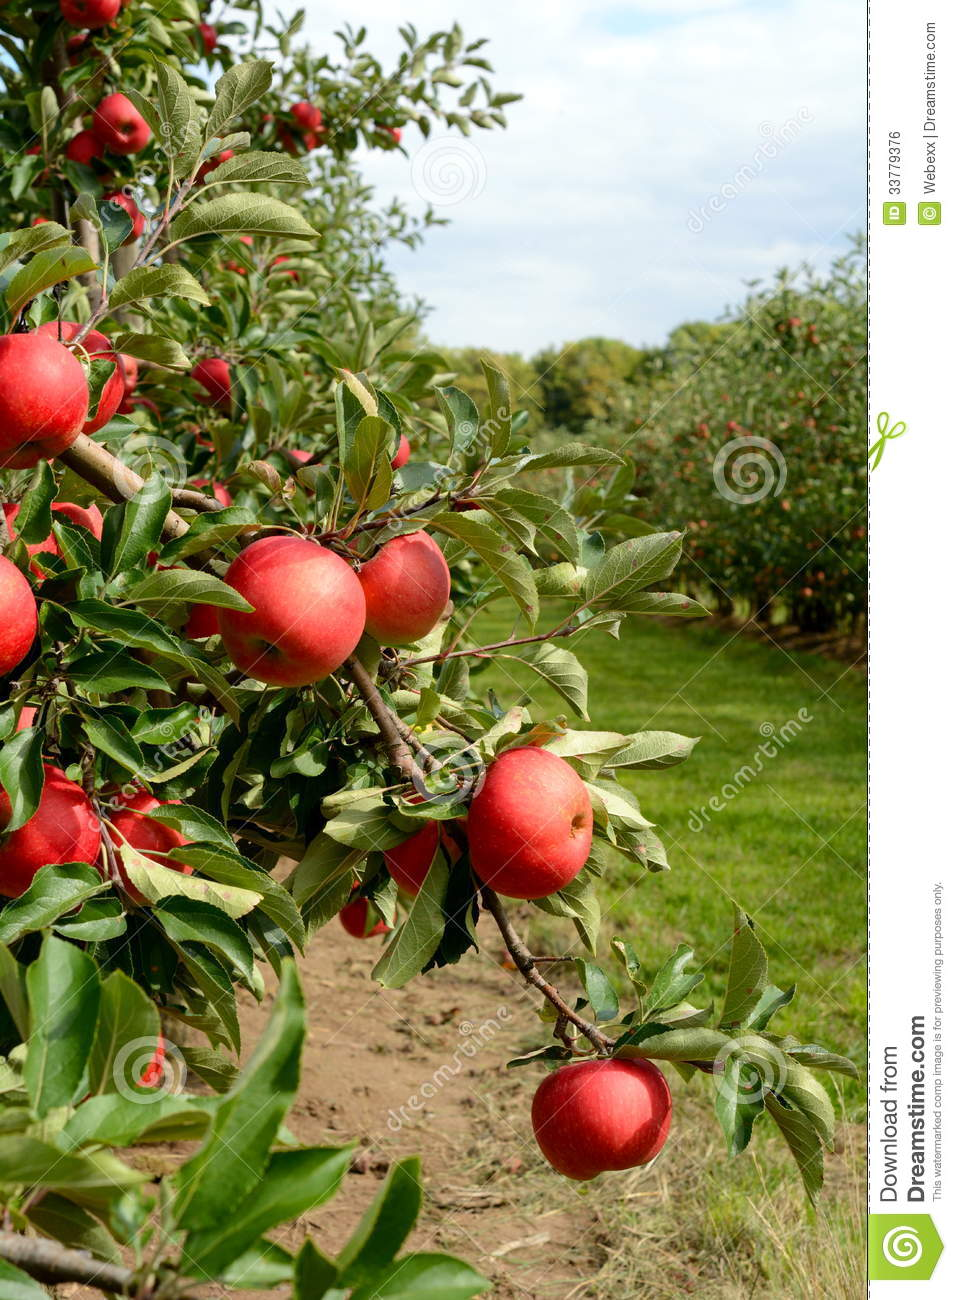apple: (216, 536, 369, 685), (471, 748, 594, 899), (532, 1056, 675, 1175), (1, 322, 94, 457)
obscured(1)_apple: (351, 524, 449, 646)
obscured(3)_apple: (1, 761, 94, 901)
